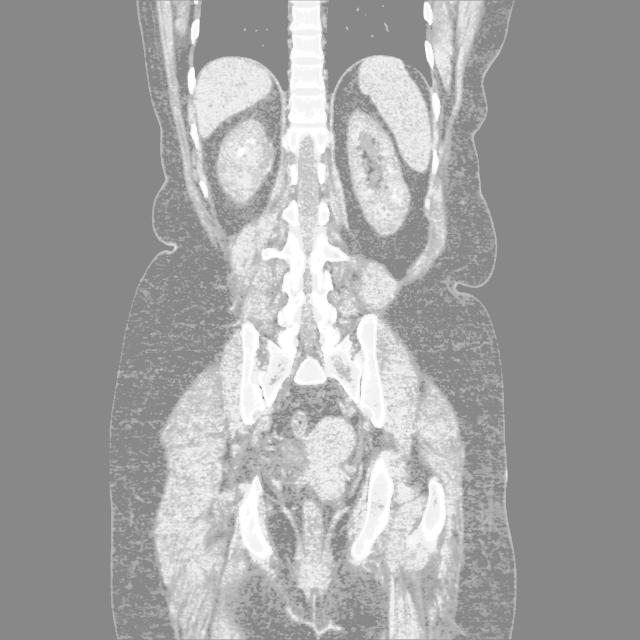STONE: (174, 86, 493, 314)
